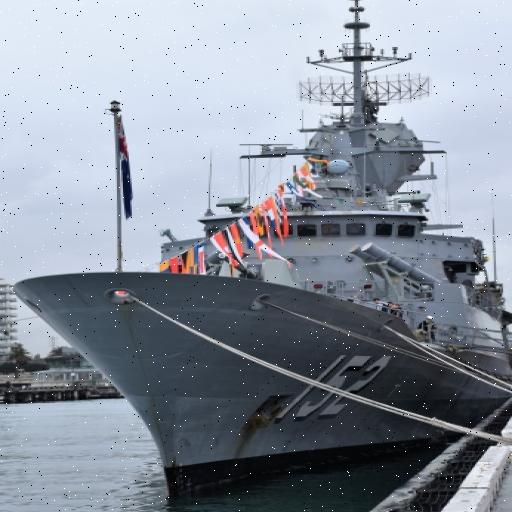Fragata: (2, 1, 512, 503)
